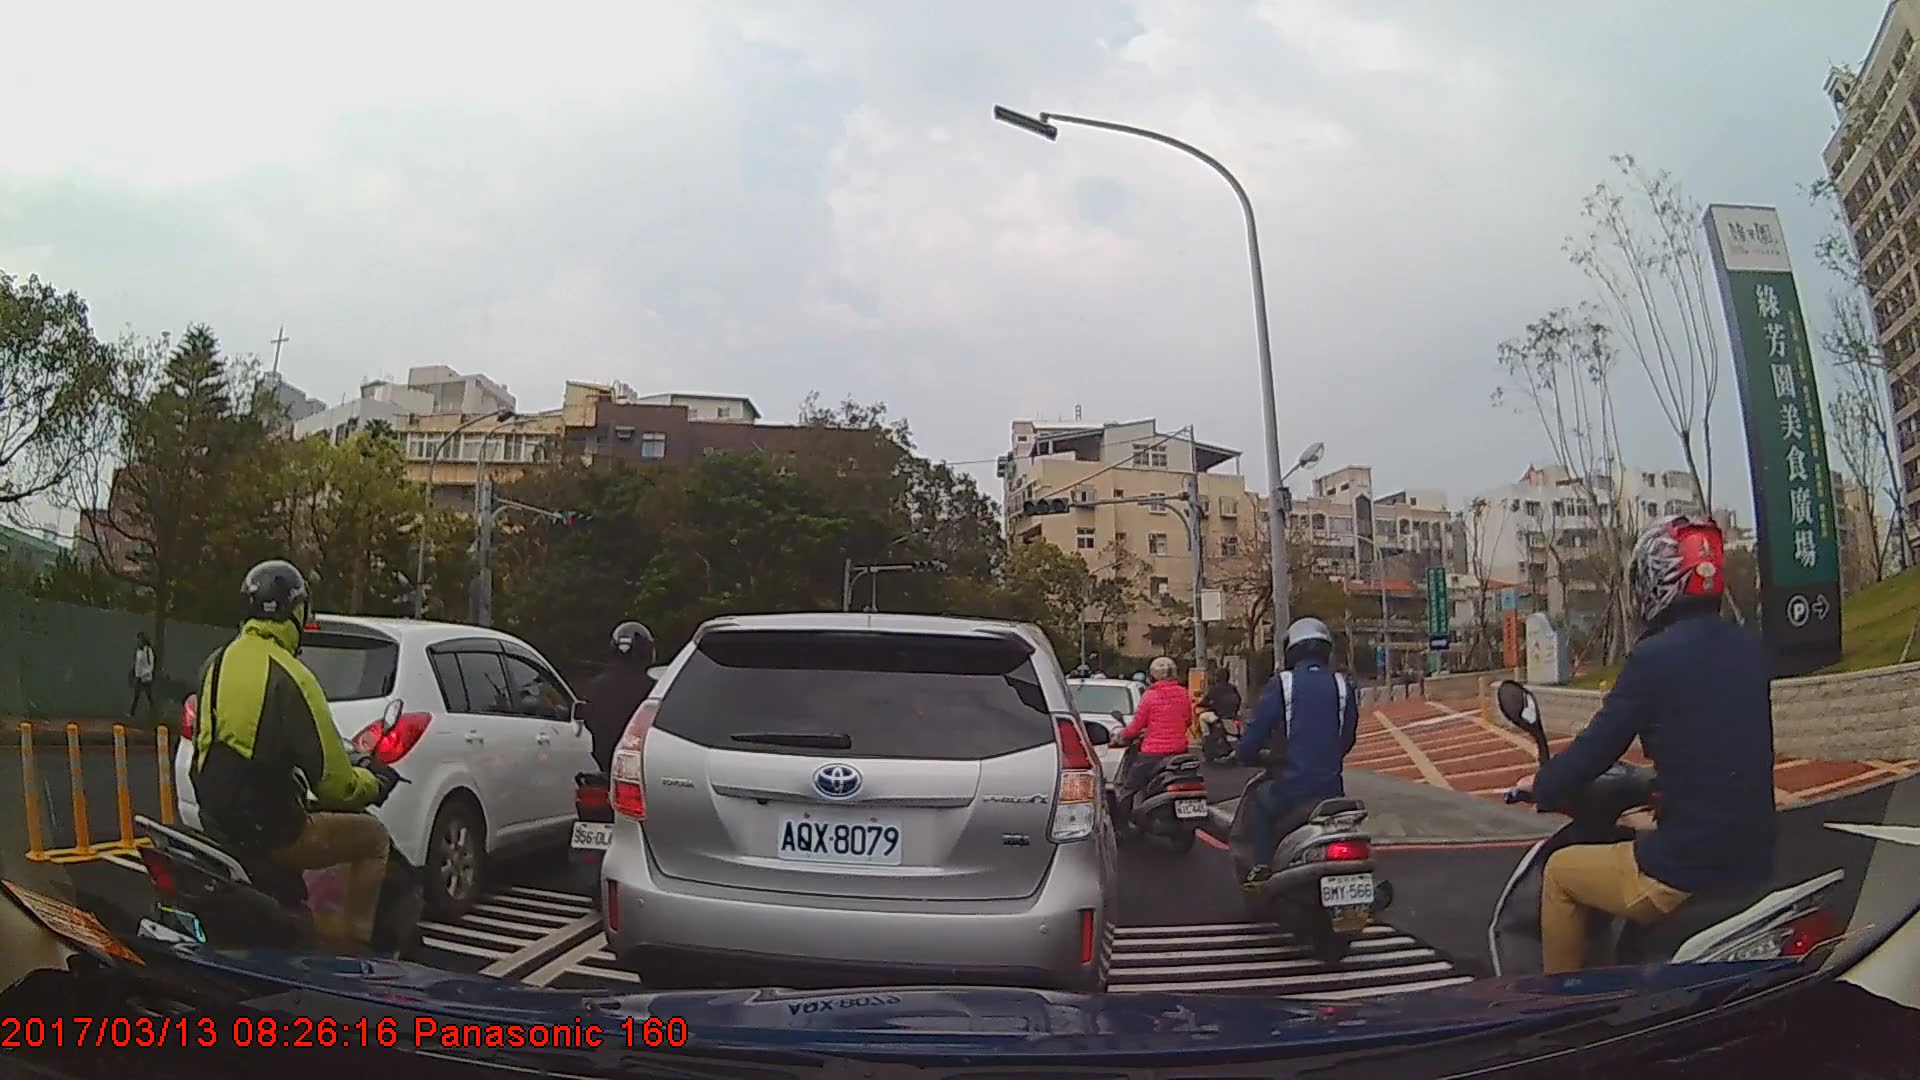pedestrian: (130, 631, 160, 720)
rider: (1492, 503, 1855, 1058), (131, 559, 432, 1021), (1223, 615, 1382, 959), (571, 619, 704, 932), (1104, 653, 1213, 863), (1199, 665, 1247, 763)
vehicle: (598, 611, 1118, 995), (173, 611, 628, 917)
